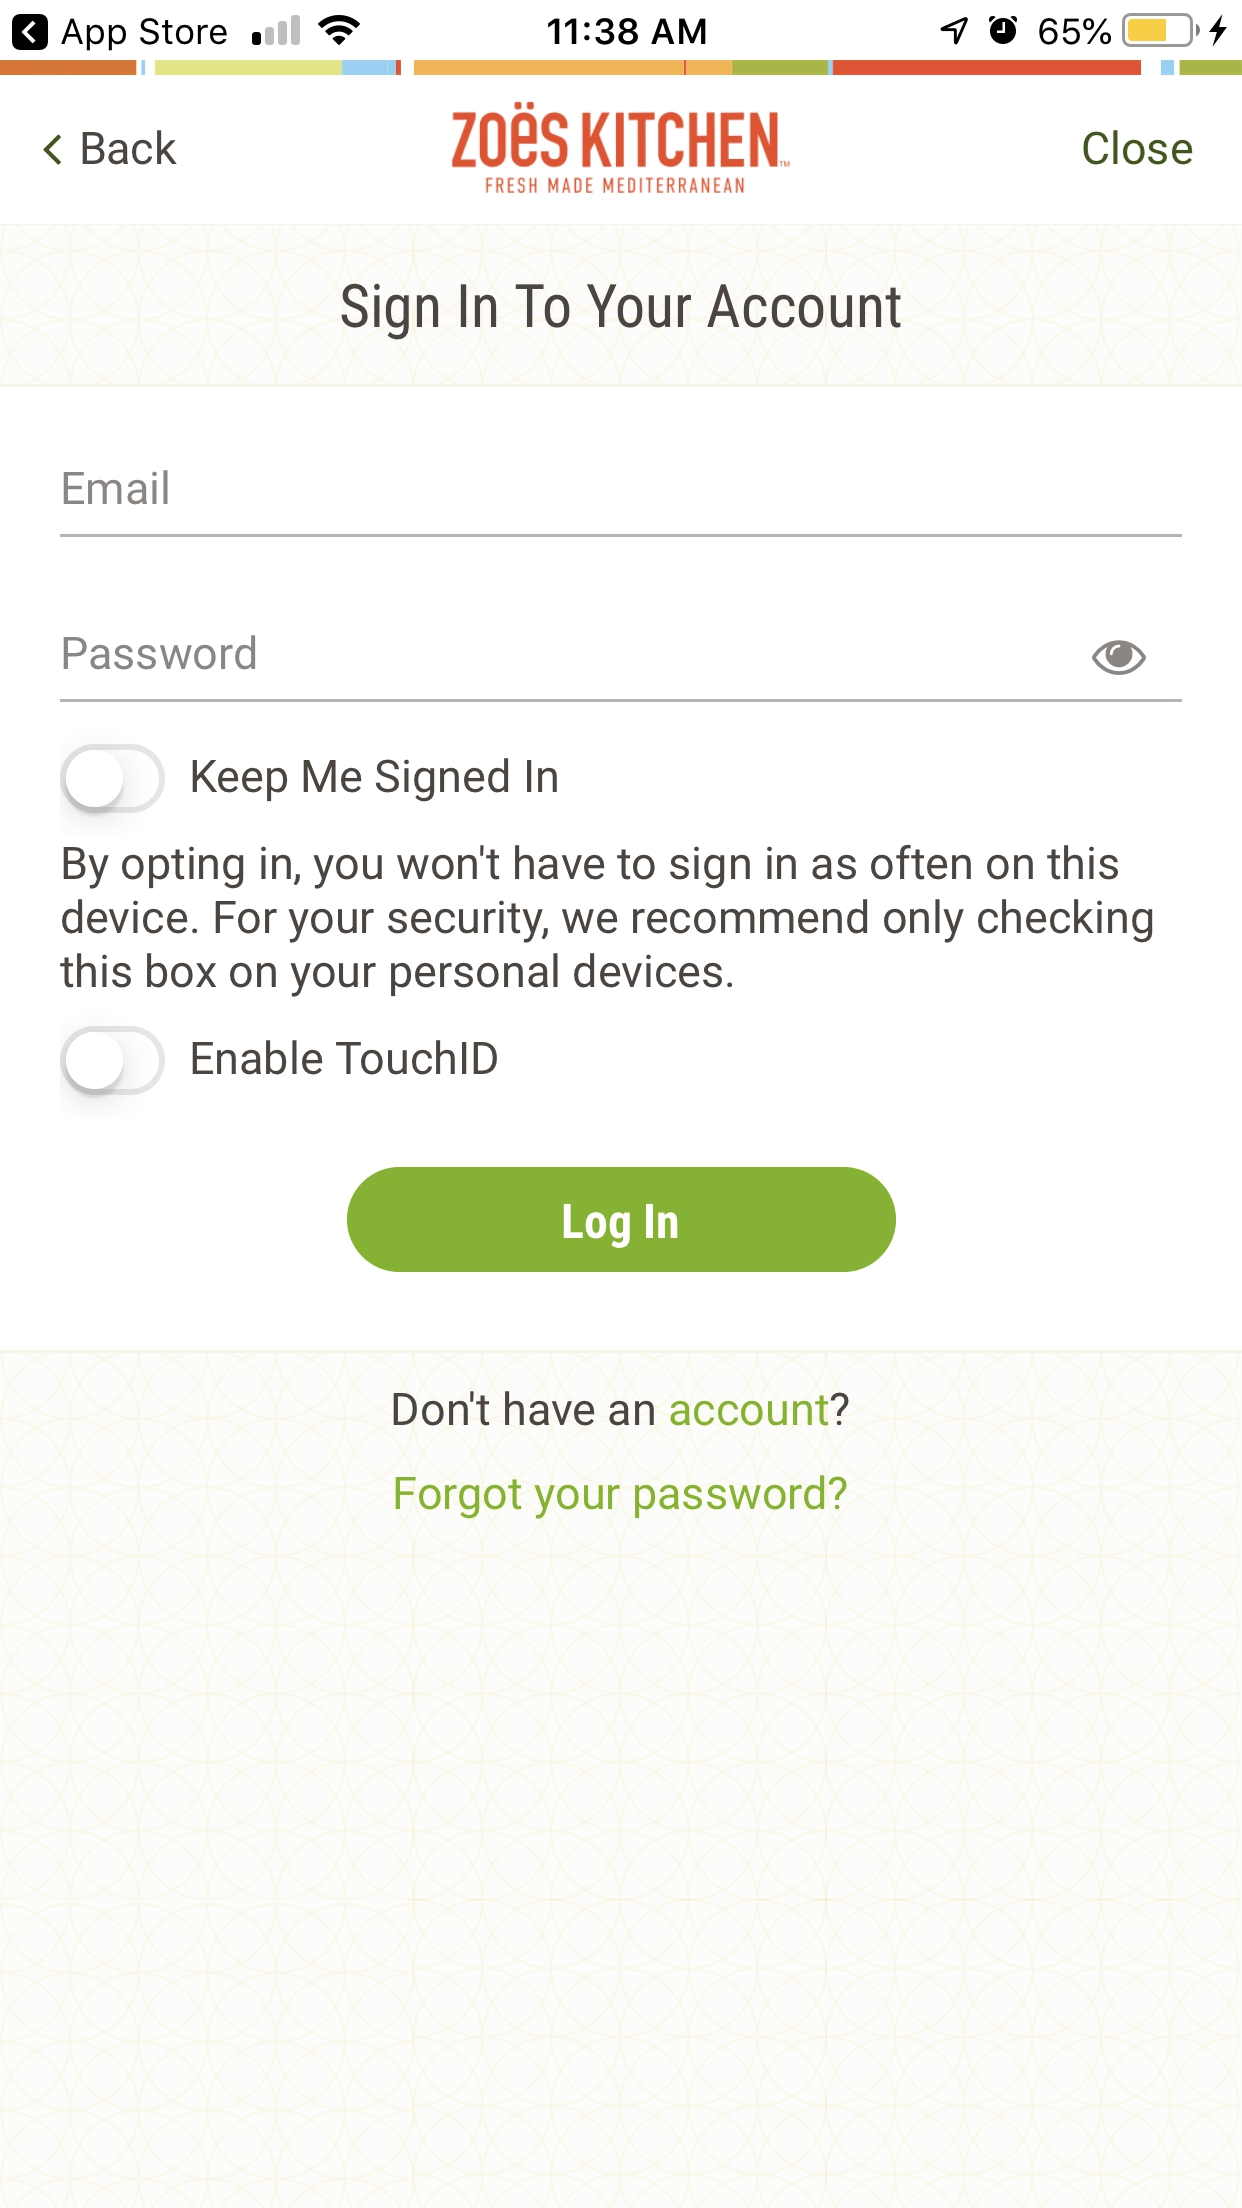EditText: (61, 635, 1183, 704), (61, 470, 1183, 538)
Icon: (1090, 640, 1146, 676), (42, 135, 64, 167)
Image: (450, 102, 792, 196)
Switch: (61, 1025, 167, 1096), (61, 745, 167, 814)
Text: (61, 845, 1153, 995), (341, 284, 902, 341), (394, 1476, 848, 1520), (393, 1391, 851, 1427), (193, 758, 558, 804), (193, 1040, 497, 1077), (64, 635, 256, 672), (1081, 130, 1193, 165), (64, 470, 168, 507), (82, 130, 177, 165)
TextButton: (347, 1168, 898, 1272)
UpperTaskBar: (2, 2, 1242, 53)
